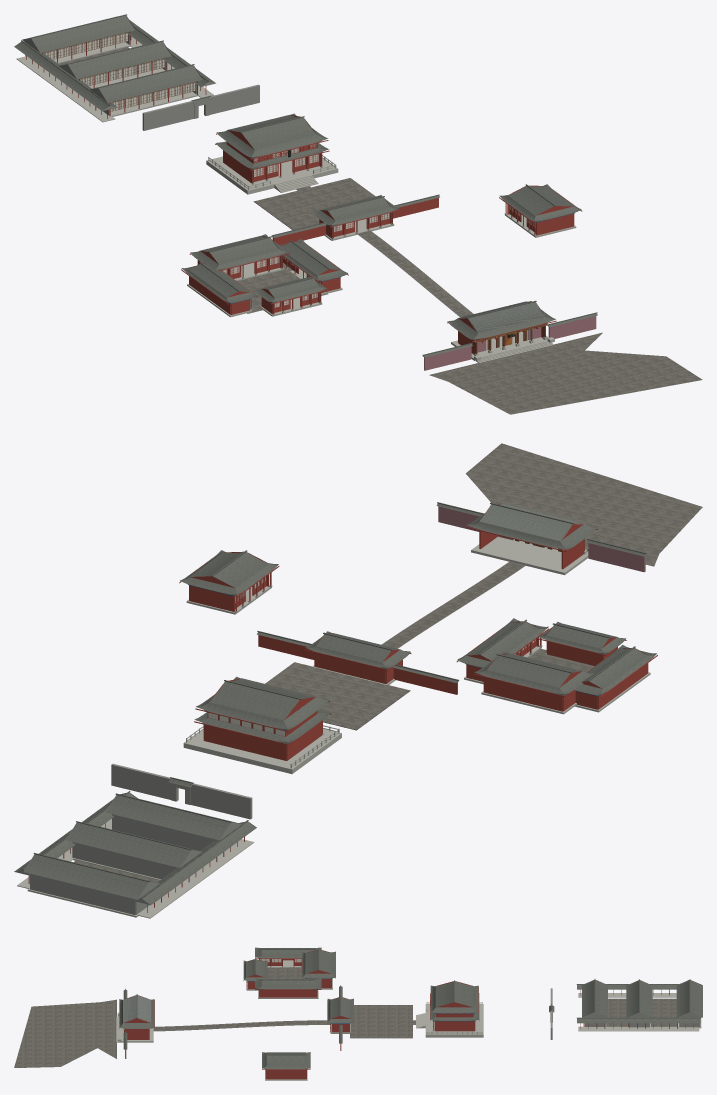
File: tianshi-study.glb
3 renders of one model, top to bottom at view 1: azimuth 30°, elevation 25°; view 2: azimuth 150°, elevation 25°; view 3: azimuth 270°, elevation 25°, orthographic. The views are drawn at different scales.
Visible parts, largest first — view 1: tianshi_structure_tianshi tile, tianshi_surface_paving_tianshi paving, tianshi_structure_tianshi red, tianshi_surface_paving_tianshi tile, tianshi_surface_paving_tianshi stone, tianshi_structure_tianshi stone, tianshi_structure_tianshi white, tianshi_structure_tianshi brick, tianshi_surface_paving_tianshi red, tianshi_structure_tianshi timber, tianshi_structure_tianshi paving, tianshi_structure_tianshi pink (+1 smaller); view 2: tianshi_structure_tianshi tile, tianshi_surface_paving_tianshi paving, tianshi_structure_tianshi brick, tianshi_structure_tianshi red, tianshi_surface_paving_tianshi tile, tianshi_surface_paving_tianshi stone, tianshi_surface_paving_tianshi red, tianshi_structure_tianshi stone, tianshi_structure_tianshi paving, tianshi_structure_tianshi tile_rib, tianshi_structure_tianshi pink; view 3: tianshi_surface_paving_tianshi paving, tianshi_structure_tianshi tile, tianshi_surface_paving_tianshi tile, tianshi_structure_tianshi red, tianshi_surface_paving_tianshi stone, tianshi_structure_tianshi stone, tianshi_surface_paving_tianshi red, tianshi_structure_tianshi paving, tianshi_structure_tianshi brick, tianshi_structure_tianshi tile_rib.
Boxes of the visible parts, x1,y1,x2,y2 form: tianshi_structure_tianshi tile: (14,14,597,357); tianshi_surface_paving_tianshi paving: (59,47,702,414); tianshi_structure_tianshi red: (26,32,582,354); tianshi_surface_paving_tianshi tile: (181,234,347,302); tianshi_surface_paving_tianshi stone: (16,36,548,360); tianshi_structure_tianshi stone: (206,155,576,362); tianshi_structure_tianshi white: (44,33,535,231); tianshi_structure_tianshi brick: (15,17,597,357); tianshi_surface_paving_tianshi red: (181,236,348,314); tianshi_structure_tianshi timber: (43,31,545,354); tianshi_structure_tianshi paving: (296,186,473,317); tianshi_structure_tianshi pink: (424,316,596,370); tianshi_structure_tianshi tile: (14,502,646,904); tianshi_surface_paving_tianshi paving: (74,443,702,882); tianshi_structure_tianshi brick: (14,504,646,914); tianshi_structure_tianshi red: (28,504,597,912); tianshi_surface_paving_tianshi tile: (457,618,656,695); tianshi_surface_paving_tianshi stone: (17,536,650,918); tianshi_surface_paving_tianshi red: (456,621,657,711); tianshi_structure_tianshi stone: (183,547,588,773); tianshi_structure_tianshi paving: (381,561,525,648); tianshi_structure_tianshi tile_rib: (479,503,584,541); tianshi_structure_tianshi pink: (438,506,645,572); tianshi_surface_paving_tianshi paving: (14,966,677,1067); tianshi_structure_tianshi tile: (119,979,702,1069); tianshi_surface_paving_tianshi tile: (243,947,335,989); tianshi_structure_tianshi red: (119,981,693,1079); tianshi_surface_paving_tianshi stone: (120,960,701,1042); tianshi_structure_tianshi stone: (116,1002,483,1080); tianshi_surface_paving_tianshi red: (243,950,335,997); tianshi_structure_tianshi paving: (153,1020,415,1031); tianshi_structure_tianshi brick: (124,980,701,1049); tianshi_structure_tianshi tile_rib: (123,995,151,1022).
Size of the model in its own units: 115 by 16.59 by 273.
17 materials, 5 textured.
